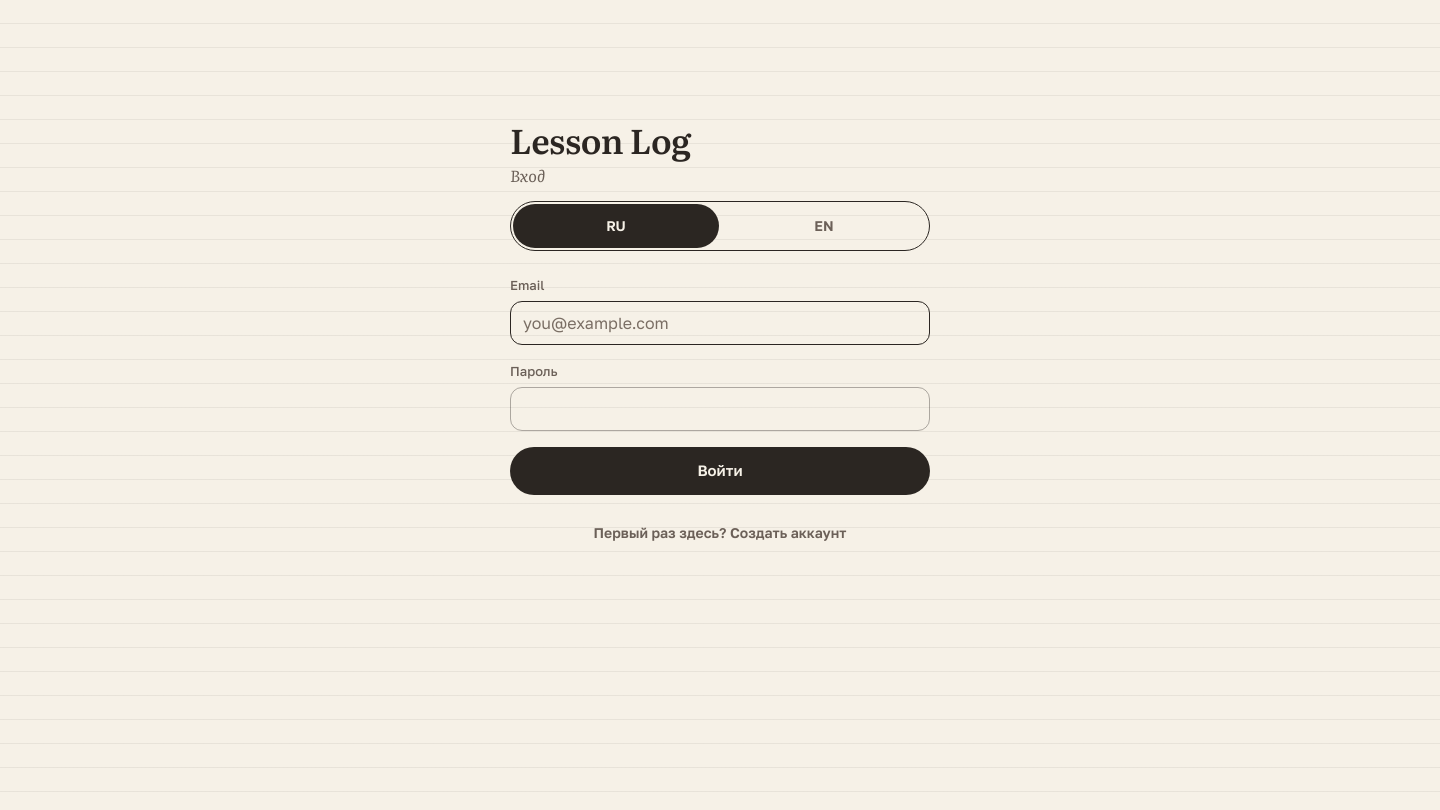
it: LoginScreen › shows a readable error for wrong credentials
Type "x@example.com" into the field with placeholder "you@example.com". click: [720, 323]
box: [510, 301, 930, 345]
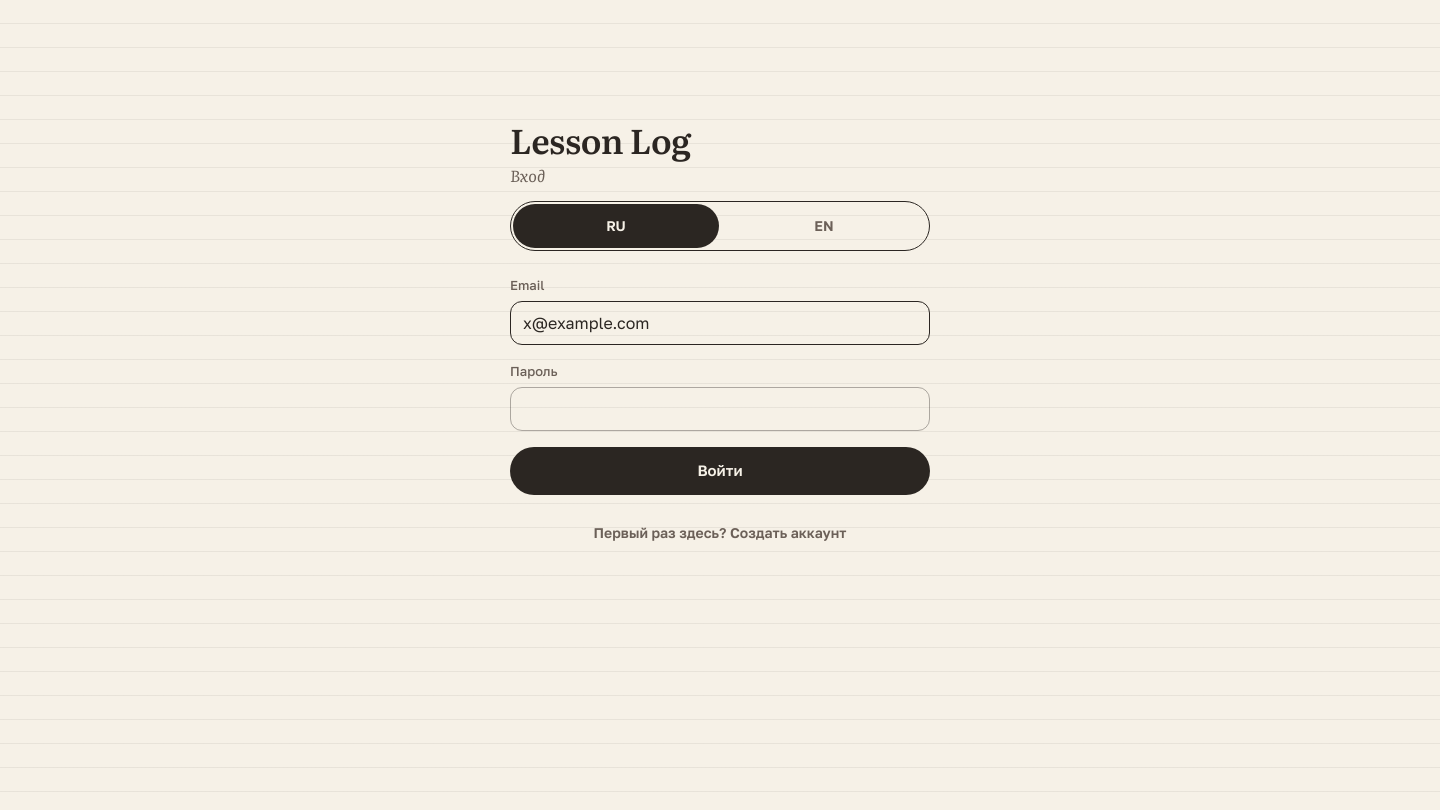
Type "wrongpass" into the password field named "password". click: [720, 409]
box: [510, 387, 930, 431]
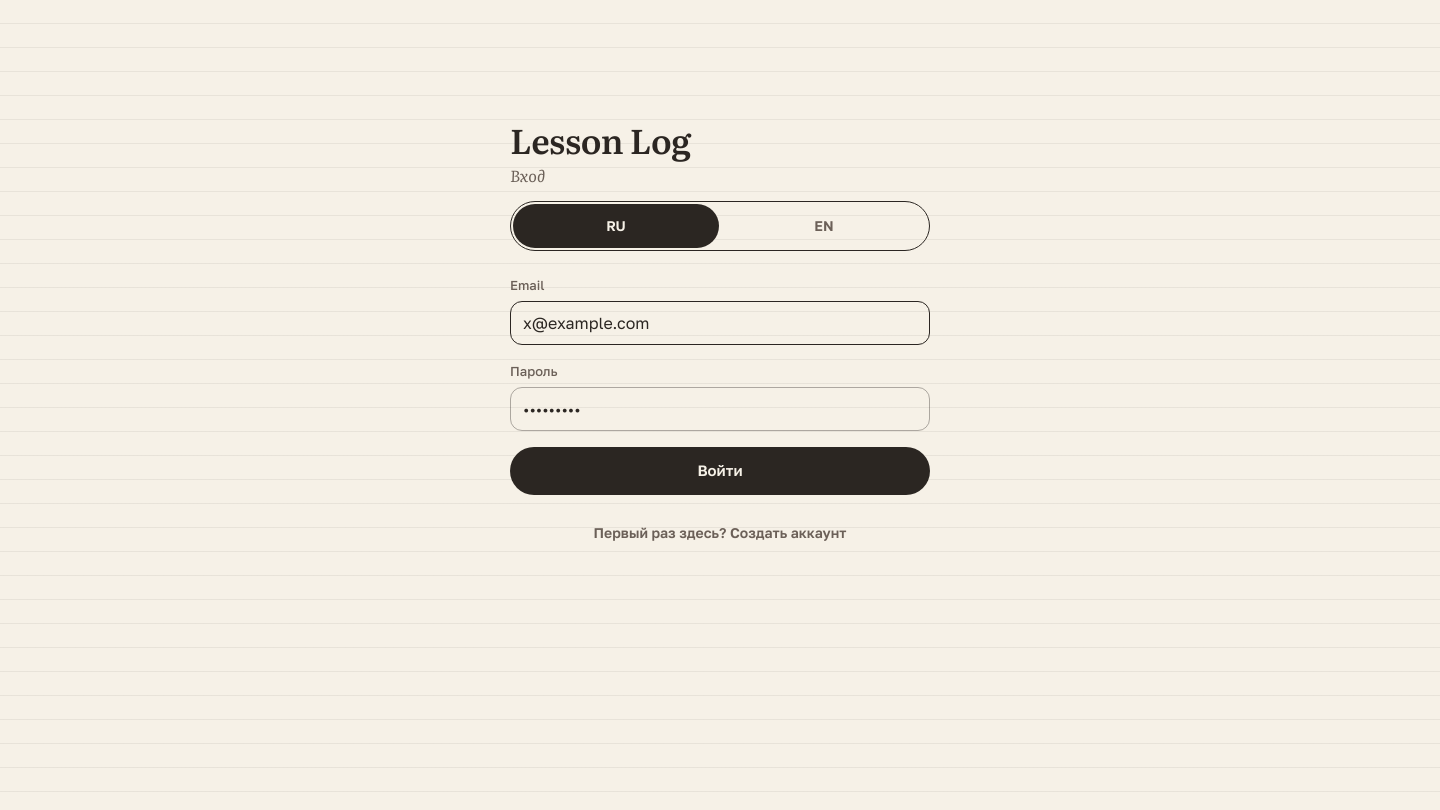
Submit the form named "password", box [510, 275, 930, 555]
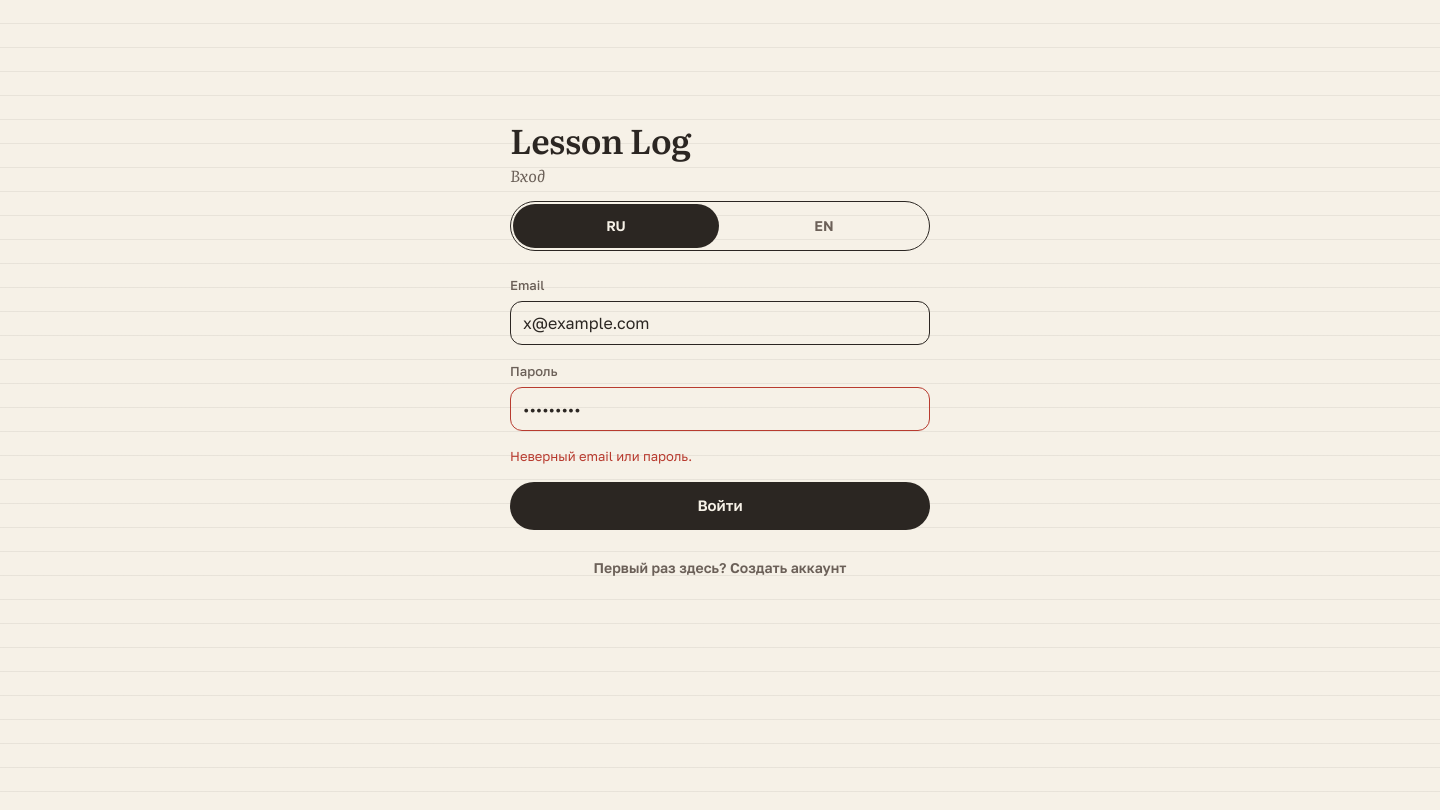
Result: the text "Неверный email или пароль." is shown at [510, 448, 692, 464]
